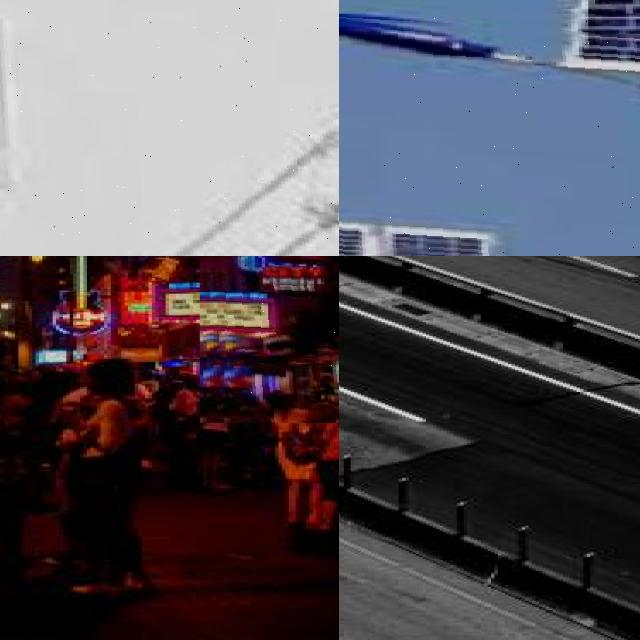street light: (0, 0, 339, 256), (339, 13, 640, 256), (200, 256, 339, 423), (32, 256, 80, 369), (1, 296, 39, 378), (0, 312, 4, 376)
